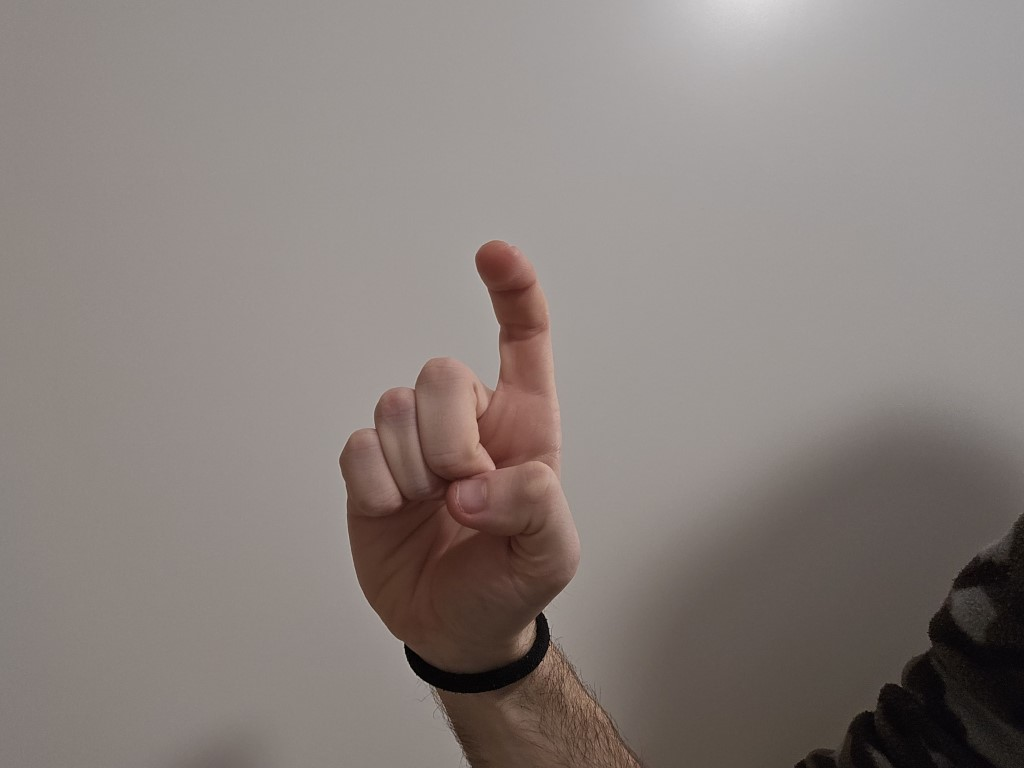x: (286, 210, 611, 653)
